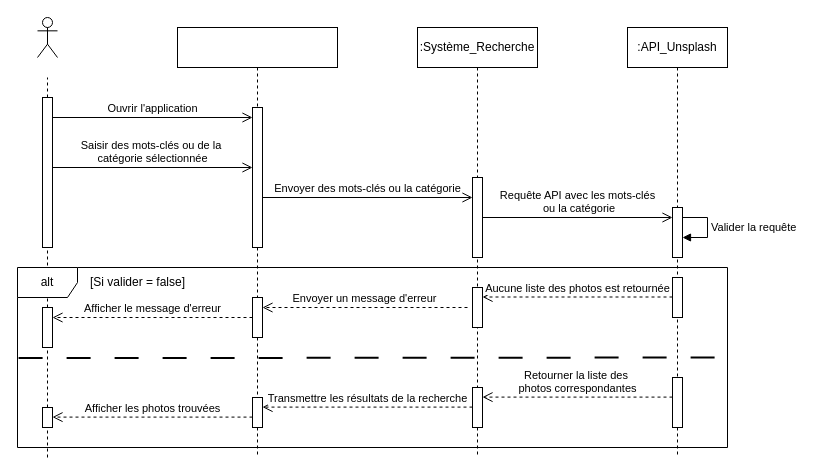
Image size: 814x476. Some labels were removed from this diagram. The shapes that lost their labels are listed below. From the top down, each one's centre as x and y in pixels, then its label:
At (x=47, y=37): "Utilisateur".
At (x=257, y=242): ":Interface_ApplicationMobile".
